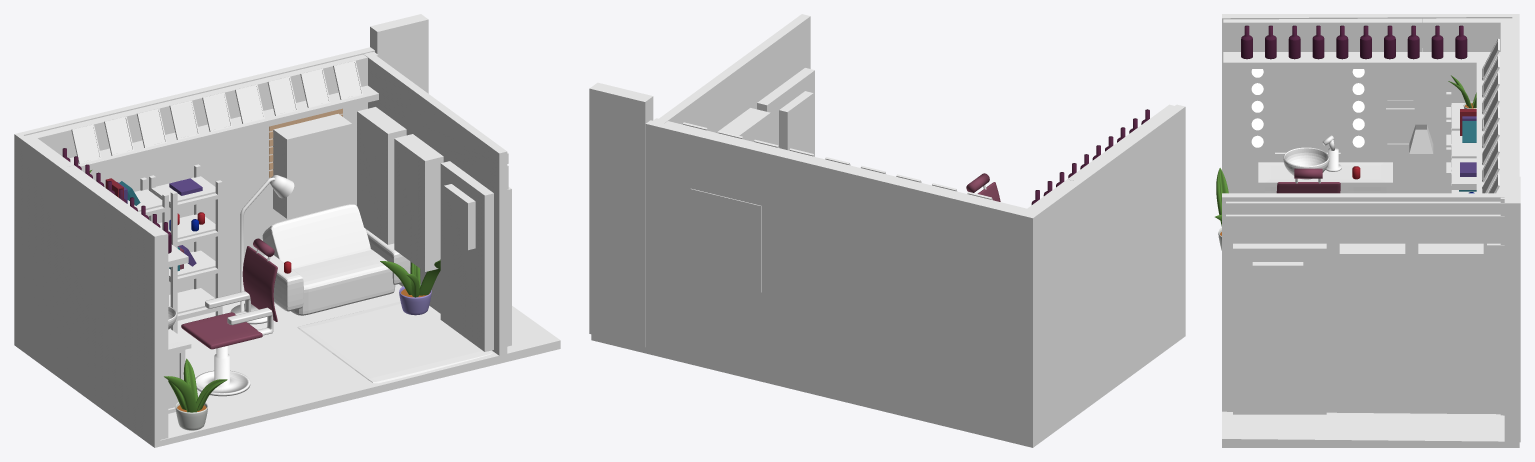
3 views of the same model, side by side, from view 1: azimuth 30°, elevation 25°; view 2: azimuth 150°, elevation 25°; view 3: azimuth 270°, elevation 25° (orthographic). The views are drawn at different scales.
Parts seen in each view (by area): view 1: wall_0, wood_161, sofa_87, front_3, Plane.002_64, Doorin_45, window4_49, window2_42, window1_41, Onshelf1_160, shelf_27, cut_48 (+28 smaller); view 2: wall_0, cut_48, front_3, window4_49, wood_161, window3_46, Doorin_45, window2_42, wine_91, pic3_92, black_159; view 3: front_3, Door_43, black_159, window2_42, window1_41, wood_161, big_label_1, front_path_4, wall_0, Mirror_88, Onshelf1_160, cut_48 (+19 smaller).
Boxes of the visible parts, x1,y1,x2,y2 form: wall_0: (14, 47, 560, 447); wood_161: (25, 52, 378, 298); sofa_87: (262, 204, 410, 315); front_3: (363, 52, 507, 355); Plane.002_64: (297, 301, 492, 383); Doorin_45: (440, 161, 493, 351); window4_49: (273, 113, 352, 218); window2_42: (394, 134, 443, 271); window1_41: (357, 107, 406, 244); Onshelf1_160: (69, 85, 378, 268); shelf_27: (134, 164, 222, 333); cut_48: (370, 14, 428, 93); wall_0: (591, 104, 1185, 447); cut_48: (589, 82, 653, 347); front_3: (655, 14, 810, 132); window4_49: (690, 188, 761, 292); wood_161: (653, 118, 1073, 213); window3_46: (779, 91, 813, 151); Doorin_45: (757, 68, 814, 155); window2_42: (716, 108, 770, 143); wine_91: (1031, 109, 1149, 204); pic3_92: (683, 122, 992, 200); black_159: (1067, 104, 1173, 180); front_3: (1222, 193, 1504, 414); Door_43: (1233, 243, 1326, 414); black_159: (1223, 18, 1422, 152); window2_42: (1339, 243, 1405, 371); window1_41: (1418, 243, 1483, 371); wood_161: (1422, 18, 1512, 415); big_label_1: (1226, 214, 1504, 241); front_path_4: (1222, 413, 1504, 441); wall_0: (1222, 14, 1519, 447); Mirror_88: (1271, 69, 1343, 156); Onshelf1_160: (1223, 48, 1500, 193); cut_48: (1504, 176, 1520, 442).
Bounding box in the file's own units: 5.01 × 2.72 × 3.08.
